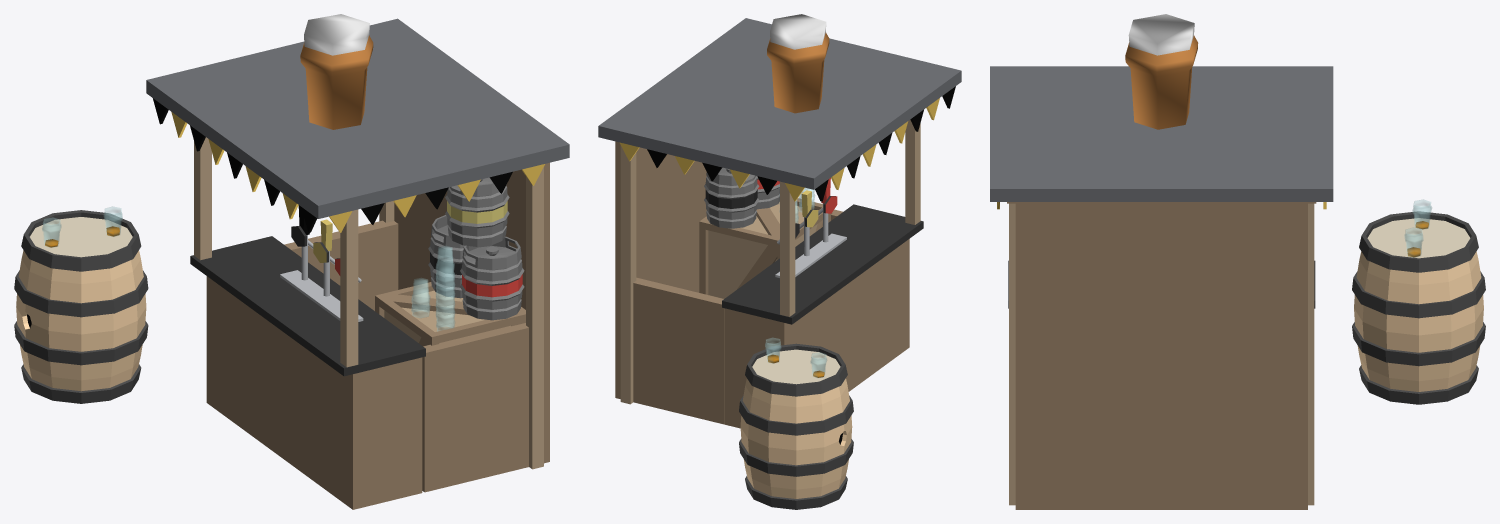
The model's file is BeerStand.glb.
3 views of the same model, side by side, from view 1: azimuth 30°, elevation 25°; view 2: azimuth 150°, elevation 25°; view 3: azimuth 270°, elevation 25° (orthographic). The views are drawn at different scales.
Parts seen in each view (by area): view 1: Objects · #2a2c30; view 2: Objects · #2a2c30; view 3: Objects · #2a2c30.
Part boxes in pixels (bbox=[...]): Objects · #2a2c30: bbox=[14, 14, 569, 509]; Objects · #2a2c30: bbox=[598, 14, 961, 509]; Objects · #2a2c30: bbox=[990, 14, 1485, 509].
Size of the model in its own units: 2.69 by 3.2 by 3.48.
